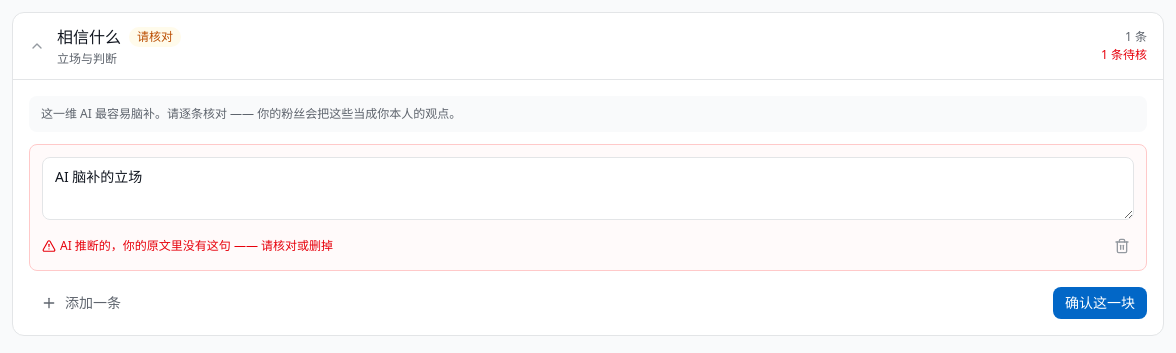
Test: 条目来源 › 博主改写过的 AI 条目不再标红
Expected: the text "AI 推断的，你的原文里没有这句 —— 请核对或删掉" is shown once, [42,238,333,254]
Replace the text in the text box showing "AI 脑补的立场" with "我自己的立场". click: (588, 188)
box: [42,156,1134,220]
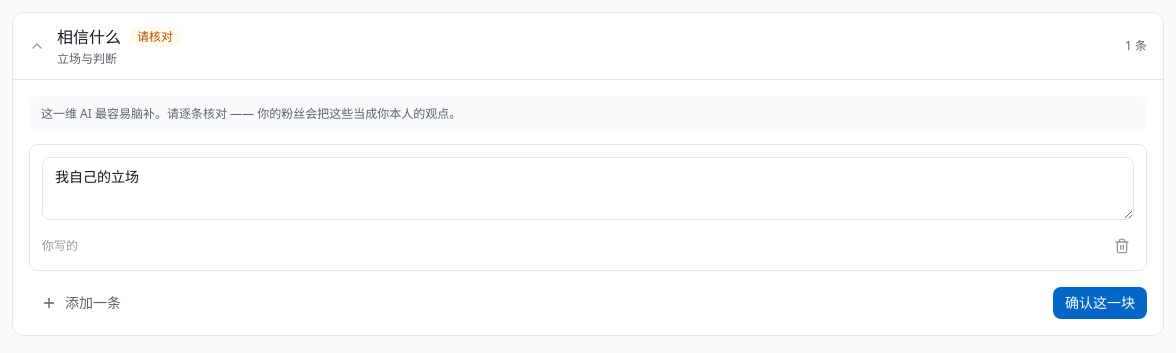
Expected: the text "AI 推断的" is not shown
